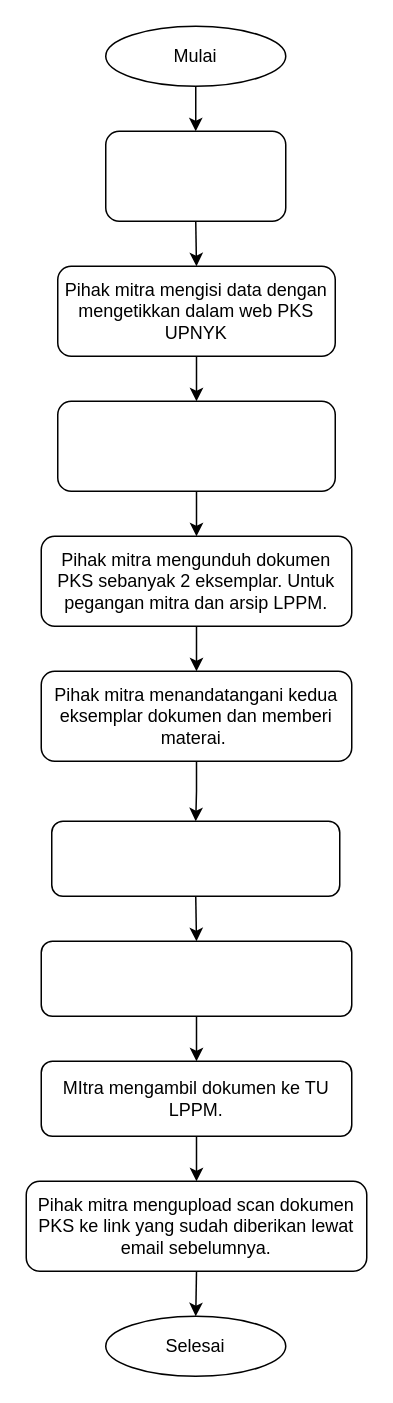
The diagram is 393 pixels wide and 1403 high, and some of its shapes have lost their labels. The shapes that lost their labels are listed below. From the top down, each one's box as (x1, y1, x2, y2) in pixels, then its label:
(104, 130, 286, 221): Dosen menghubungi mitra kerjasama
(56, 400, 335, 491): Pihak mitra menerima Email konfirmasi yang berisi link untuk mengunduh dokumen.
(50, 820, 340, 896): Pihak mitra menyerahkan kedua eksemplar dokumen PKS ke TU LPPM.
(40, 940, 352, 1016): Pihak LPPM meninjau dokumen PKS, kemudian ditandatangani oleh Ketua LPPM.
